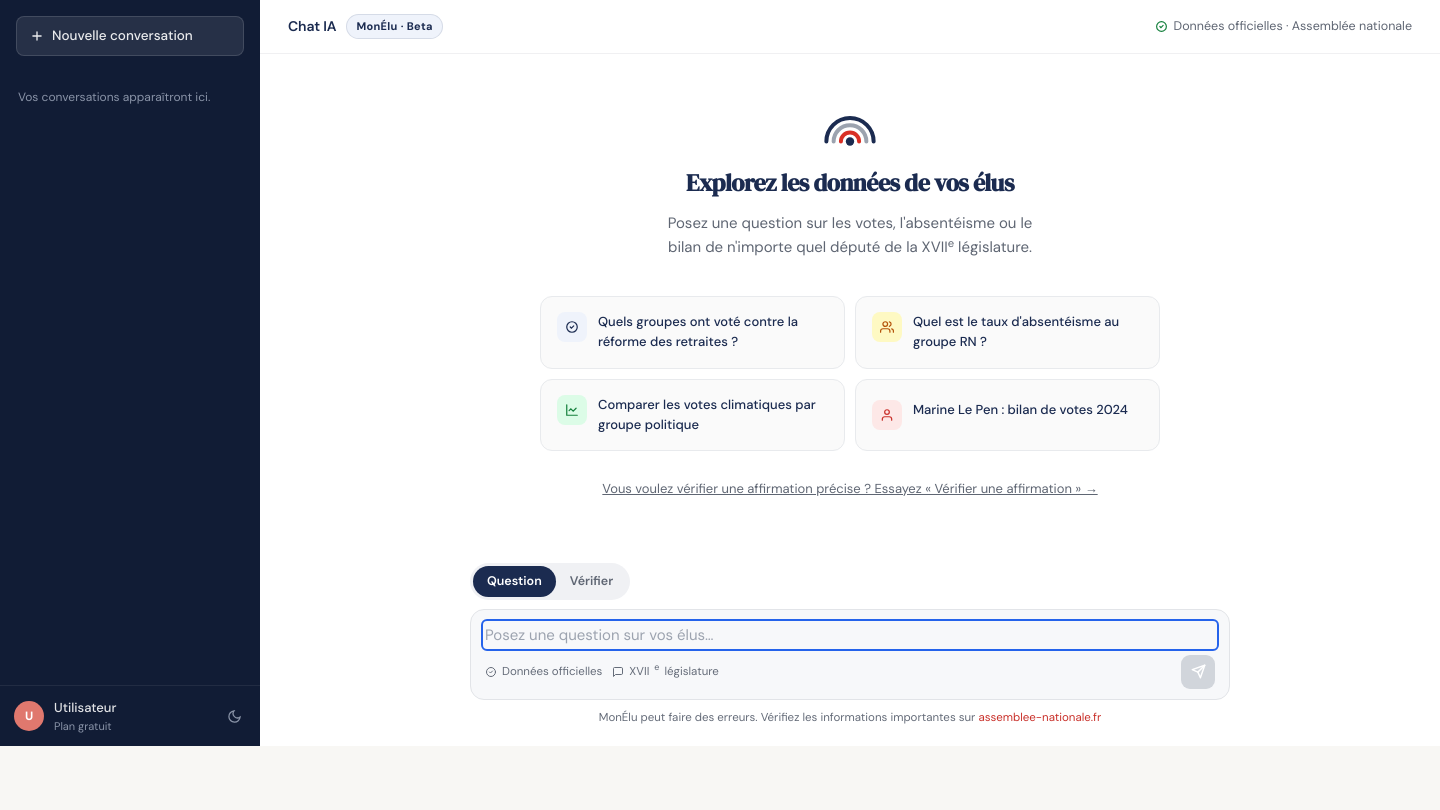
Scenario: ChatPage loading treatment (MON-216) › shows a contextual AsyncStatus while a question is in flight, with aria-busy
The image size is (1440, 810).
Type "Quels groupes ont voté pour ?" into the text box named "Votre question".
click(850, 635); type("Quels groupes ont voté pour ?")  # box [485,623,1215,647]
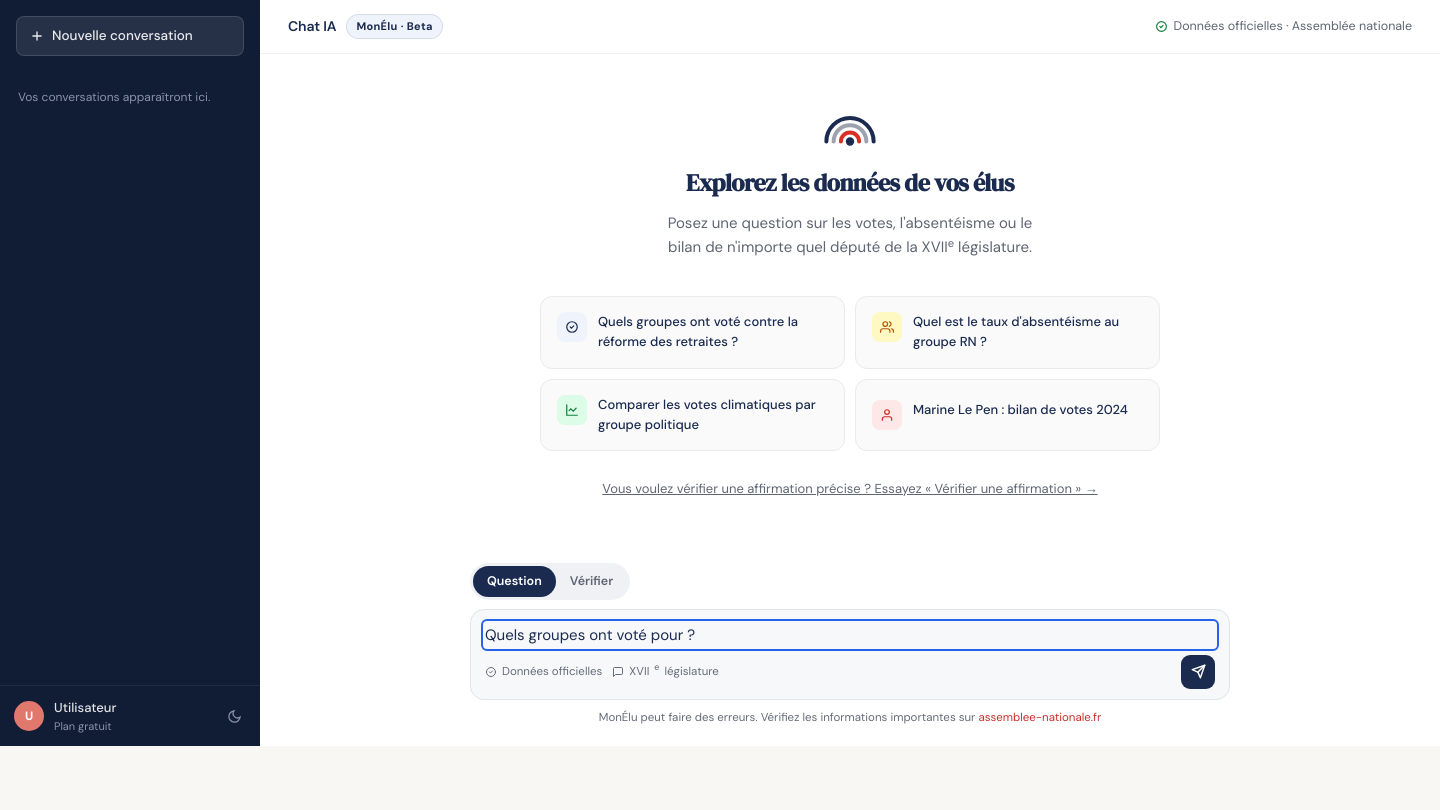
Press Enter in the text box named "Votre question", box [485,623,1215,647]
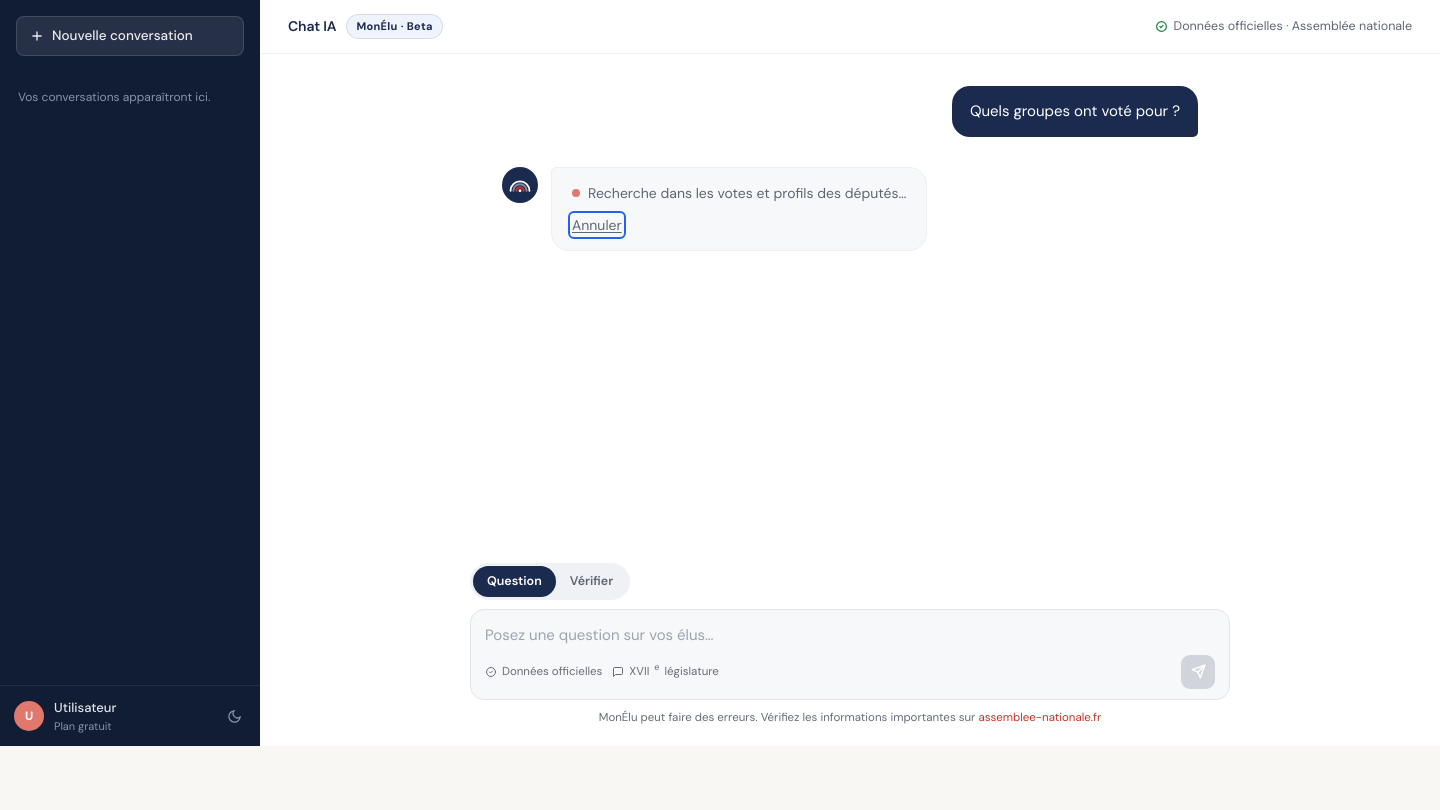
Check: the message shows "Recherche dans les votes et profils des députés…", box [588,184,906,202]
